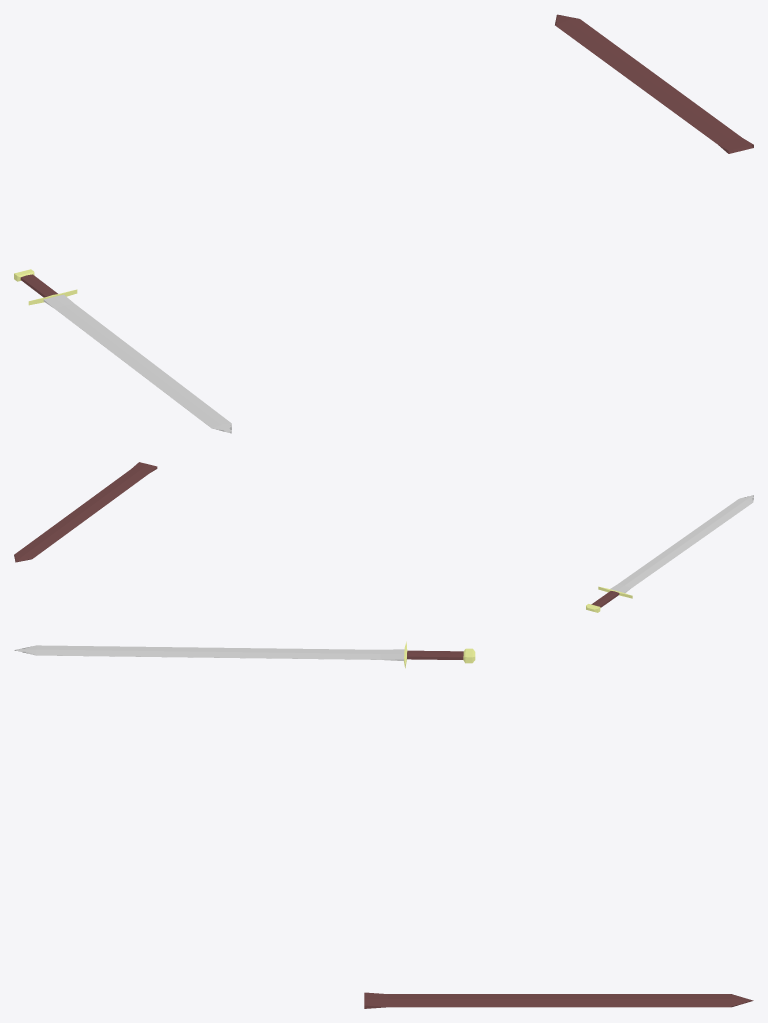
Rendered from basicsword.gltf.
The picture shows the model from 3 angles, top to bottom: view 1: azimuth 30°, elevation 25°; view 2: azimuth 150°, elevation 25°; view 3: azimuth 270°, elevation 25°; orthographic projection. The views are drawn at different scales.
Visible parts, largest first — view 1: scabbard, sword; view 2: scabbard, sword; view 3: scabbard, sword.
Boxes of the visible parts, x1,y1,x2,y2 form: scabbard: (555, 14, 753, 153); sword: (14, 269, 231, 433); scabbard: (14, 462, 157, 562); sword: (586, 495, 753, 612); scabbard: (364, 992, 753, 1008); sword: (14, 641, 475, 668).
Bounding box in the file's own units: 4.31 × 0.0354 × 3.71.
Materials: 3 (3 with a texture image).
